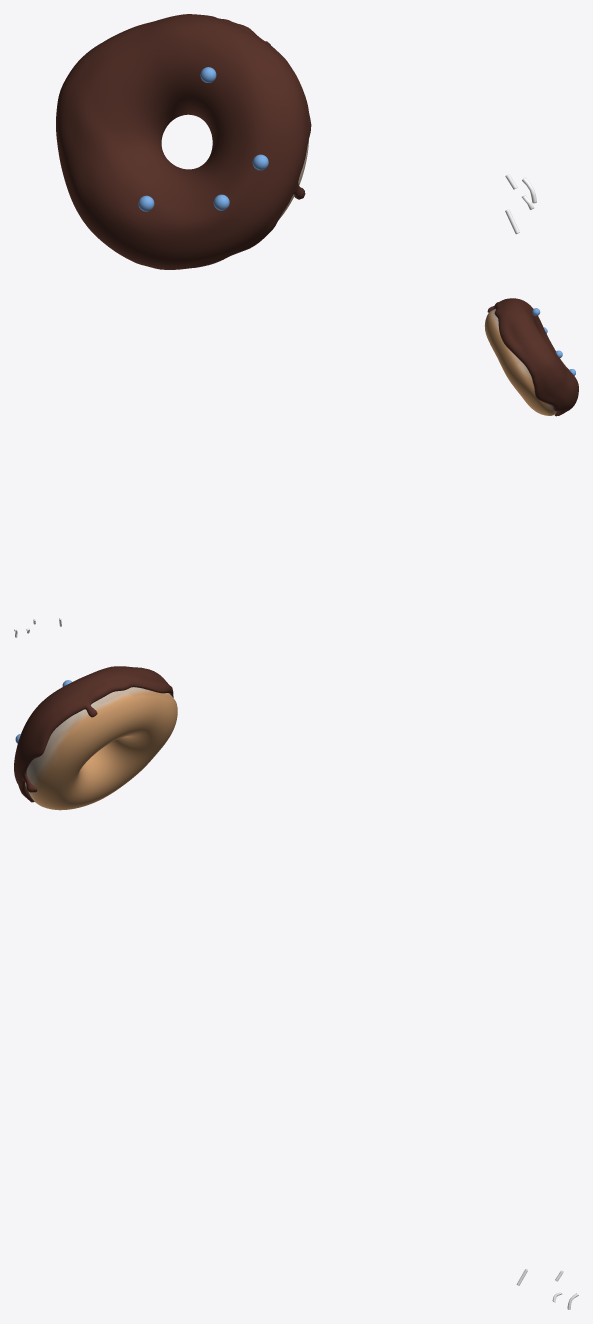
The model's file is Donat 20.glb.
3 views of the same model, one above another, from view 1: azimuth 30°, elevation 25°; view 2: azimuth 150°, elevation 25°; view 3: azimuth 270°, elevation 25° (orthographic). The views are drawn at different scales.
Visible parts, largest first — view 1: Licing; view 2: Licing, Donut; view 3: Donut, Licing.
Boxes of the visible parts, box(x1,y1,x2,y2) form: Licing: box(56, 14, 311, 269); Licing: box(487, 298, 578, 416); Donut: box(484, 309, 556, 415); Donut: box(25, 687, 177, 810); Licing: box(14, 666, 173, 802).
Size of the model in its own units: 0.3739 by 0.2653 by 0.331.
4 materials, 1 textured.
